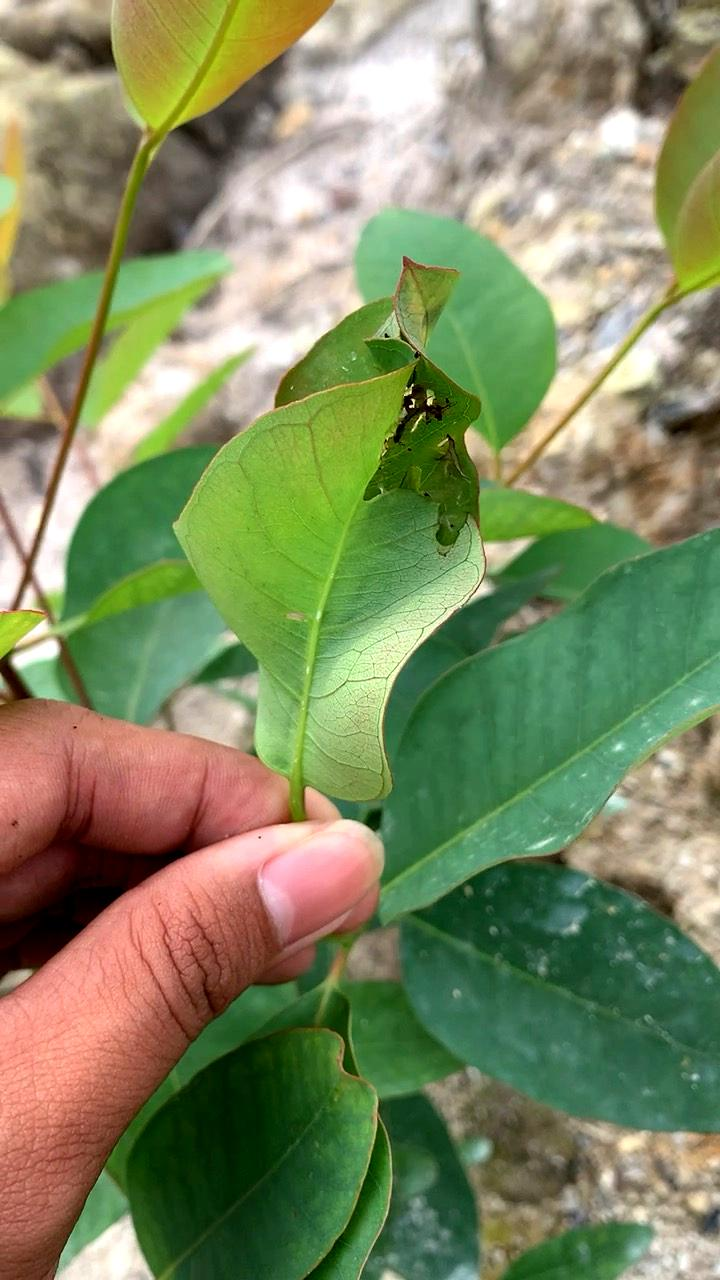Leaf Roller - Leaf: (187, 245, 528, 832)
